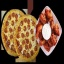pepperoni: (22, 24, 31, 31), (24, 44, 34, 50), (20, 33, 26, 40), (10, 20, 16, 27), (18, 45, 23, 52), (10, 34, 14, 41)
pizza: (2, 8, 38, 61)
